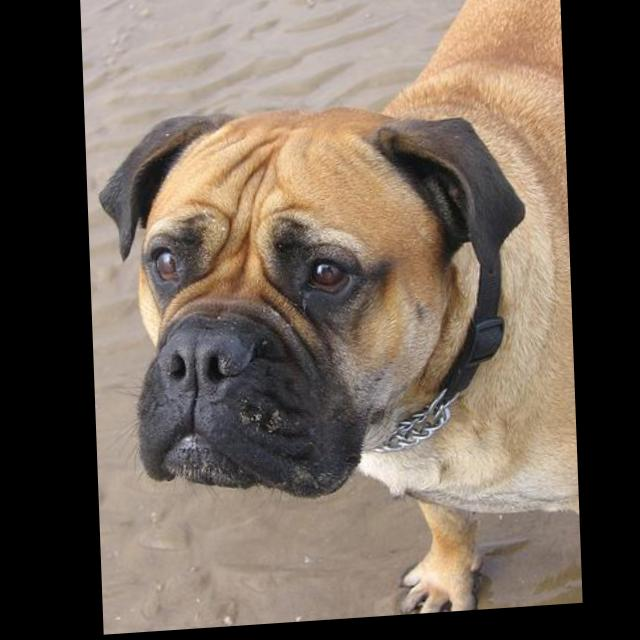bullmastiff: (94, 1, 579, 636)
